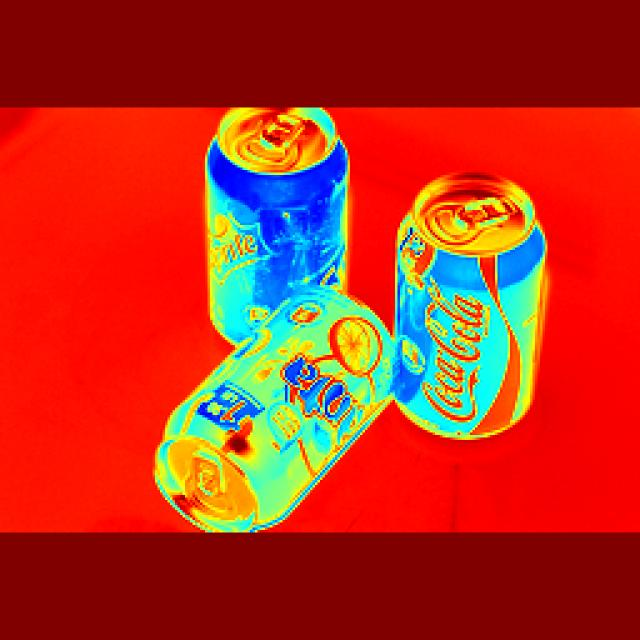Aluminium Food Cans: (159, 311, 387, 536), (410, 175, 544, 436), (215, 113, 348, 294)
